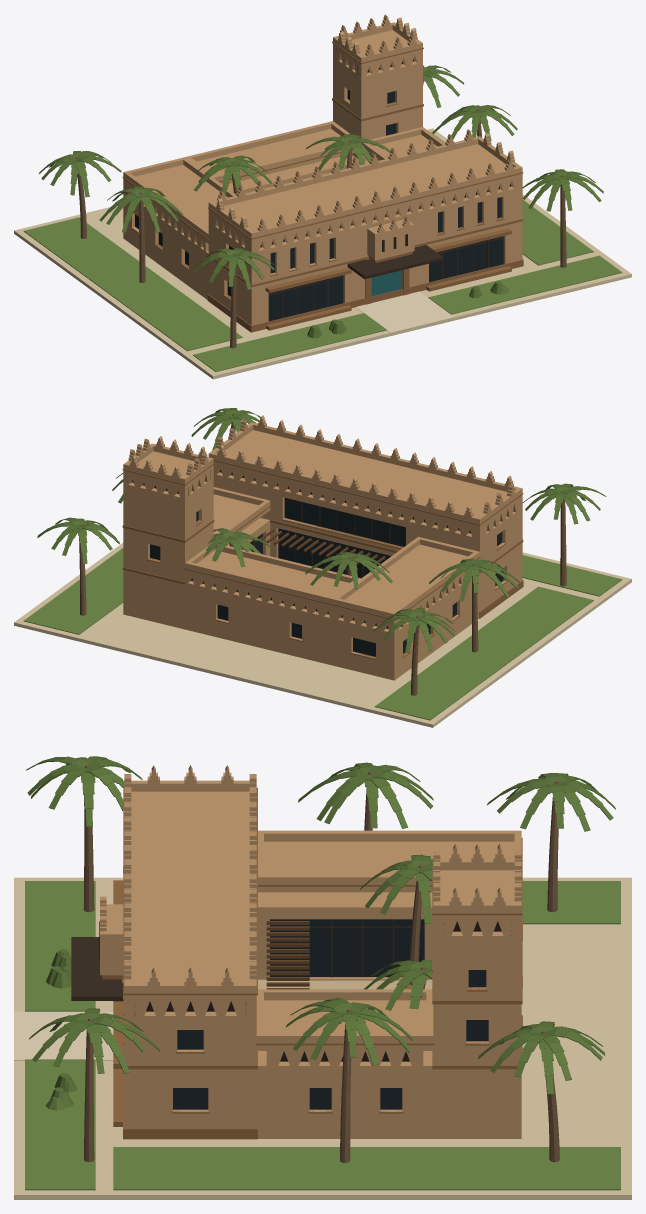
File: najdi.glb
3 renders of one model, top to bottom at view 1: azimuth 30°, elevation 25°; view 2: azimuth 150°, elevation 25°; view 3: azimuth 270°, elevation 25°, orthographic. The views are drawn at different scales.
Parts seen in each view (by area): view 1: Najdi_mud, Najdi_lawn, Najdi_leaf, Najdi_pave, Najdi_mud_dark, Najdi_glass, Najdi_coping, Najdi_trunk, Najdi_frame, Najdi_door; view 2: Najdi_mud, Najdi_pave, Najdi_lawn, Najdi_leaf, Najdi_glass, Najdi_mud_dark, Najdi_trunk, Najdi_wood, Najdi_frame; view 3: Najdi_mud, Najdi_lawn, Najdi_pave, Najdi_leaf, Najdi_glass, Najdi_mud_dark, Najdi_trunk, Najdi_frame, Najdi_coping, Najdi_wood, Najdi_court, Najdi_shadow.
Part boxes in pixels (x1,y1,x2,y2): Najdi_mud: (123, 15, 522, 325); Najdi_lawn: (23, 132, 622, 371); Najdi_leaf: (39, 65, 603, 338); Najdi_pave: (14, 128, 631, 379); Najdi_mud_dark: (122, 41, 523, 332); Najdi_glass: (135, 89, 503, 321); Najdi_coping: (355, 291, 454, 332); Najdi_trunk: (76, 71, 566, 348); Najdi_frame: (268, 237, 503, 318); Najdi_door: (371, 270, 401, 296); Najdi_mud: (123, 415, 522, 680); Najdi_pave: (14, 543, 631, 727); Najdi_lawn: (24, 548, 622, 720); Najdi_leaf: (37, 408, 606, 653); Najdi_glass: (150, 498, 503, 656); Najdi_mud_dark: (122, 459, 523, 659); Najdi_trunk: (79, 413, 566, 695); Najdi_wood: (259, 529, 385, 566); Najdi_frame: (243, 502, 390, 577); Najdi_mud: (100, 765, 521, 1138); Najdi_lawn: (25, 881, 620, 1190); Najdi_pave: (14, 877, 631, 1199); Najdi_leaf: (26, 756, 615, 1110); Najdi_glass: (173, 919, 488, 1109); Najdi_mud_dark: (102, 787, 522, 1139); Najdi_trunk: (83, 765, 559, 1162); Najdi_frame: (71, 919, 424, 1000); Najdi_coping: (14, 1011, 113, 1060); Najdi_wood: (266, 921, 309, 989); Najdi_court: (258, 979, 432, 989); Najdi_shadow: (99, 921, 511, 1061).
Size of the model in its own units: 34.17 by 12.68 by 28.
